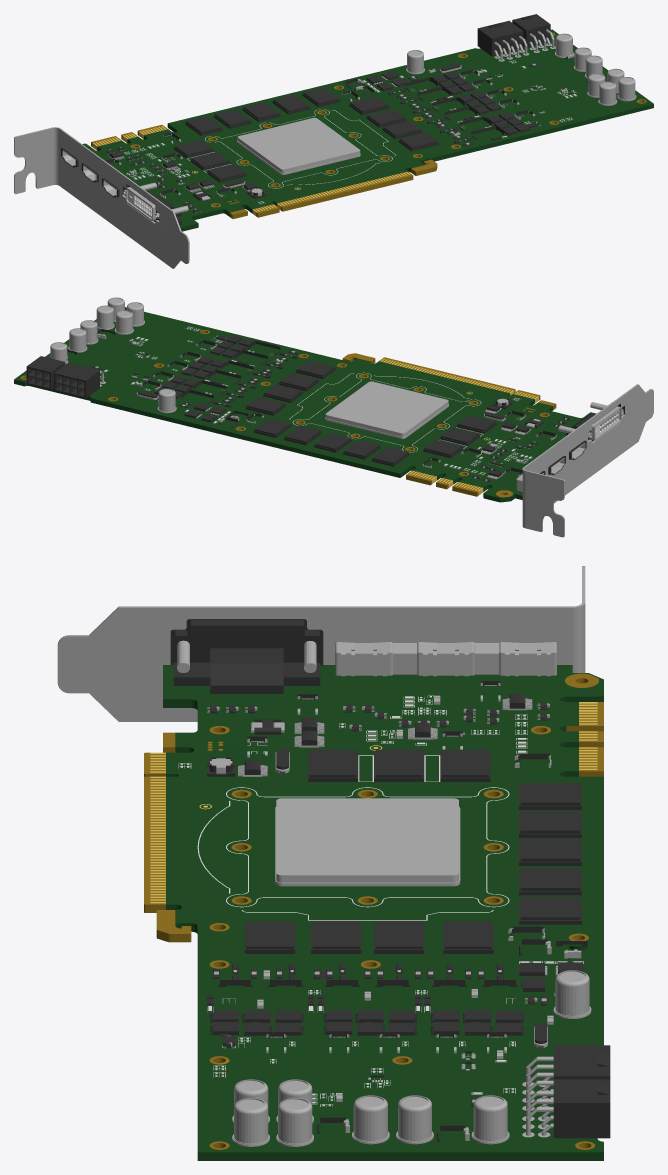
File: GPU.glb
The picture shows the model from 3 angles, top to bottom: view 1: azimuth 30°, elevation 25°; view 2: azimuth 150°, elevation 25°; view 3: azimuth 270°, elevation 25°; orthographic projection. The views are drawn at different scales.
Visible parts, largest first — view 1: Circle; view 2: Circle; view 3: Circle.
Boxes of the visible parts, bbox=[...] form: Circle: bbox=[14, 14, 653, 268]; Circle: bbox=[14, 297, 653, 537]; Circle: bbox=[57, 566, 610, 1160].
Bounding box in the file's own units: 19.9 × 2 × 8.77.
